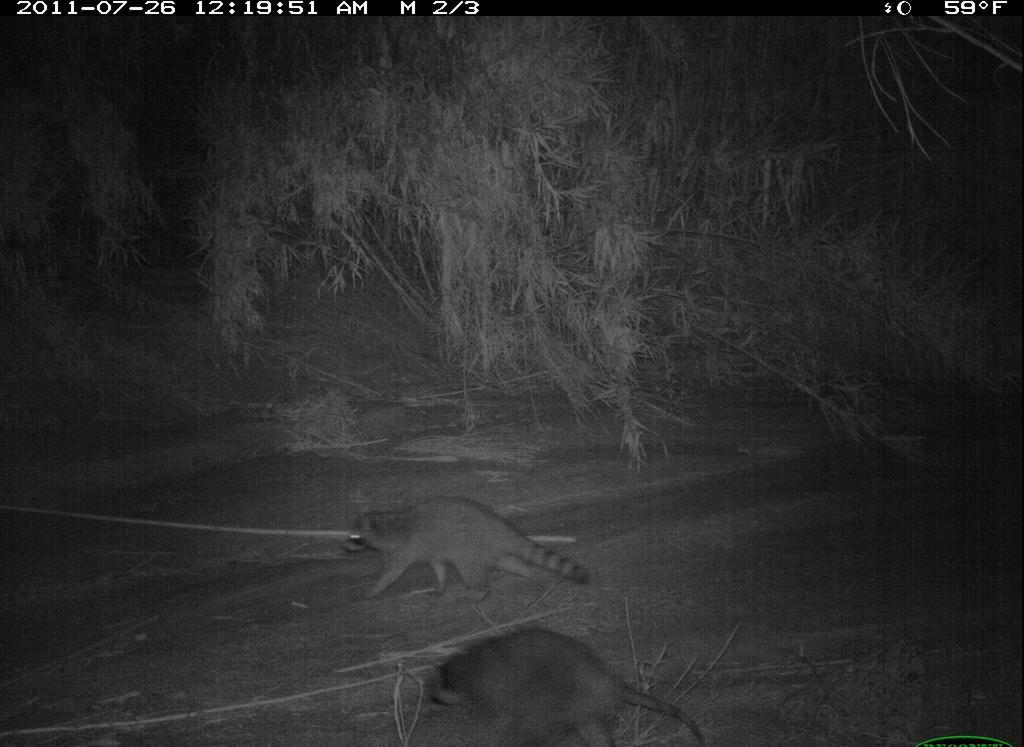raccoon: (418, 620, 705, 744), (342, 493, 597, 606)
